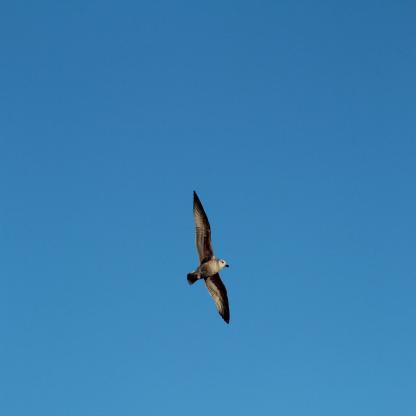bird: (186, 189, 233, 325)
